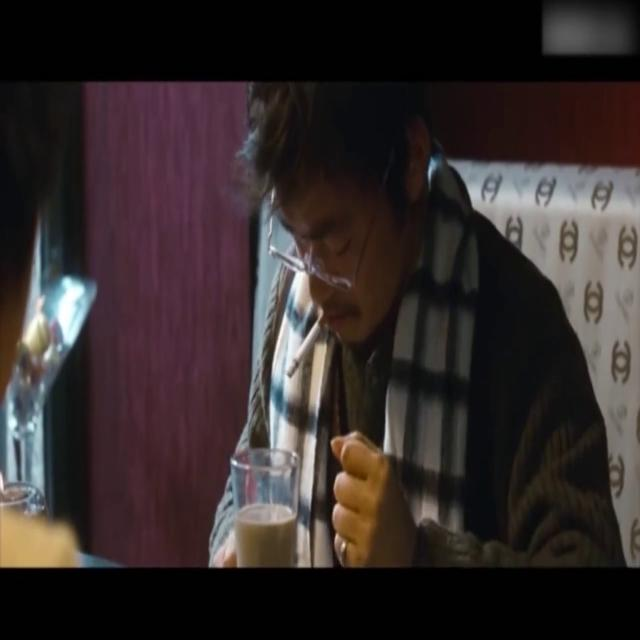smoking: (286, 304, 330, 378)
